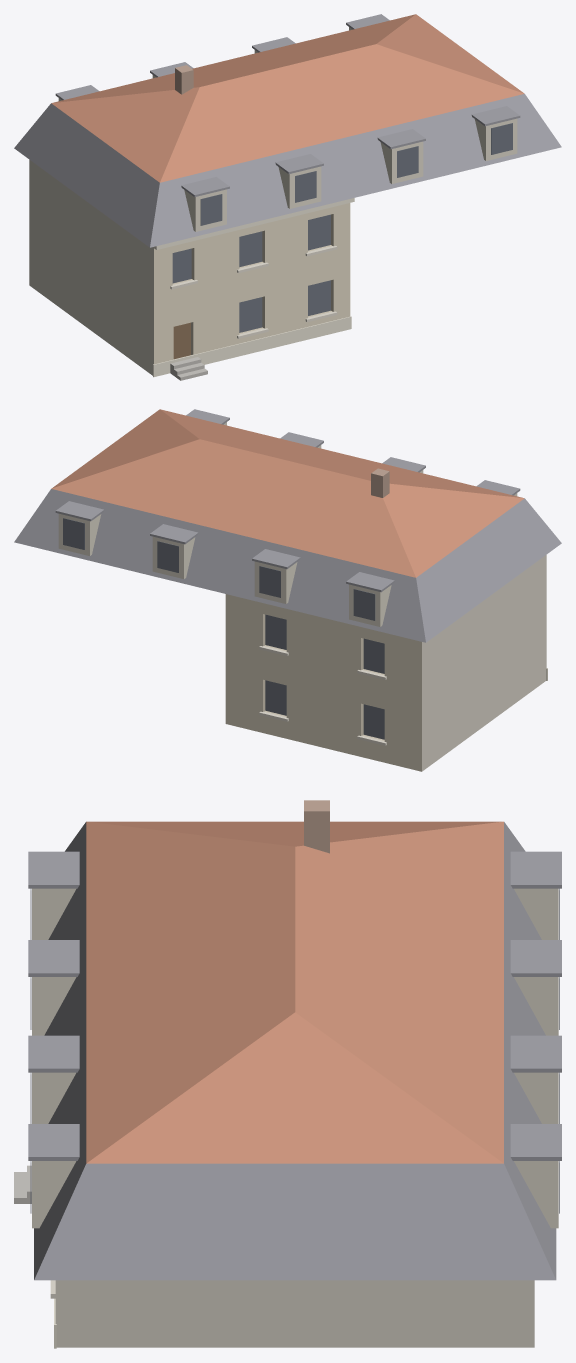
The picture shows the model from 3 angles, top to bottom: view 1: azimuth 30°, elevation 25°; view 2: azimuth 150°, elevation 25°; view 3: azimuth 270°, elevation 25°; orthographic projection. The views are drawn at different scales.
Visible parts, largest first — view 1: CP_1899_Roof_Upper, CP_1899_Masonry, CP_1899_Roof_Lower, CP_1899_Cornice_main_plinth_0, CP_1899_Cornice_main_eave_0, CP_1899_Roof_MW1, CP_1899_Roof_MW2, CP_1899_Roof_MW0, CP_1899_Roof_MW3, CP_1899_Roof_MW0_glass, CP_1899_Roof_MW1_glass, CP_1899_Roof_MW3_glass (+6 smaller); view 2: CP_1899_Masonry, CP_1899_Roof_Upper, CP_1899_Roof_Lower, CP_1899_Roof_MW5, CP_1899_Roof_MW6, CP_1899_Roof_MW4, CP_1899_Roof_MW7, CP_1899_Roof_MW4_glass, CP_1899_Roof_MW7_glass, CP_1899_Roof_MW5_glass, CP_1899_Roof_MW6_glass, CP_1899_Roof_MW7_cap (+4 smaller); view 3: CP_1899_Roof_Upper, CP_1899_Roof_Lower, CP_1899_Masonry, CP_1899_Roof_MW0_cap, CP_1899_Roof_MW2_cap, CP_1899_Roof_MW4_cap, CP_1899_Roof_MW6_cap, CP_1899_Roof_MW1_cap, CP_1899_Roof_MW3_cap, CP_1899_Roof_MW5_cap, CP_1899_Roof_MW7_cap, CP_1899_Roof_MW7 (+8 smaller).
Boxes of the visible parts, x1=… form: CP_1899_Roof_Upper: x1=51, y1=14, x2=524, y2=182; CP_1899_Masonry: x1=29, y1=160, x2=350, y2=375; CP_1899_Roof_Lower: x1=14, y1=94, x2=561, y2=247; CP_1899_Cornice_main_plinth_0: x1=153, y1=316, x2=351, y2=377; CP_1899_Cornice_main_eave_0: x1=153, y1=198, x2=354, y2=249; CP_1899_Roof_MW1: x1=278, y1=166, x2=321, y2=208; CP_1899_Roof_MW2: x1=380, y1=141, x2=423, y2=183; CP_1899_Roof_MW0: x1=184, y1=189, x2=226, y2=231; CP_1899_Roof_MW3: x1=474, y1=118, x2=517, y2=160; CP_1899_Roof_MW0_glass: x1=200, y1=194, x2=222, y2=225; CP_1899_Roof_MW1_glass: x1=295, y1=171, x2=316, y2=202; CP_1899_Roof_MW3_glass: x1=491, y1=123, x2=512, y2=154; CP_1899_Masonry: x1=225, y1=555, x2=546, y2=771; CP_1899_Roof_Upper: x1=51, y1=409, x2=524, y2=577; CP_1899_Roof_Lower: x1=14, y1=489, x2=561, y2=642; CP_1899_Roof_MW5: x1=254, y1=561, x2=297, y2=603; CP_1899_Roof_MW6: x1=152, y1=536, x2=195, y2=578; CP_1899_Roof_MW4: x1=349, y1=584, x2=391, y2=626; CP_1899_Roof_MW7: x1=58, y1=513, x2=101, y2=555; CP_1899_Roof_MW4_glass: x1=353, y1=589, x2=375, y2=620; CP_1899_Roof_MW7_glass: x1=63, y1=518, x2=84, y2=549; CP_1899_Roof_MW5_glass: x1=259, y1=566, x2=280, y2=597; CP_1899_Roof_MW6_glass: x1=157, y1=541, x2=178, y2=572; CP_1899_Roof_MW7_cap: x1=55, y1=501, x2=104, y2=521; CP_1899_Roof_Upper: x1=86, y1=821, x2=503, y2=1163; CP_1899_Roof_Lower: x1=34, y1=822, x2=556, y2=1280; CP_1899_Masonry: x1=55, y1=1280, x2=534, y2=1347; CP_1899_Roof_MW0_cap: x1=28, y1=851, x2=79, y2=888; CP_1899_Roof_MW2_cap: x1=28, y1=1035, x2=79, y2=1072; CP_1899_Roof_MW4_cap: x1=510, y1=851, x2=561, y2=888; CP_1899_Roof_MW6_cap: x1=510, y1=1035, x2=561, y2=1072; CP_1899_Roof_MW1_cap: x1=28, y1=940, x2=79, y2=976; CP_1899_Roof_MW3_cap: x1=28, y1=1124, x2=79, y2=1160; CP_1899_Roof_MW5_cap: x1=510, y1=940, x2=561, y2=976; CP_1899_Roof_MW7_cap: x1=510, y1=1124, x2=561, y2=1160; CP_1899_Roof_MW7: x1=514, y1=1161, x2=558, y2=1228.
Bounding box in the file's own units: 21 × 11.4 × 12.59.
